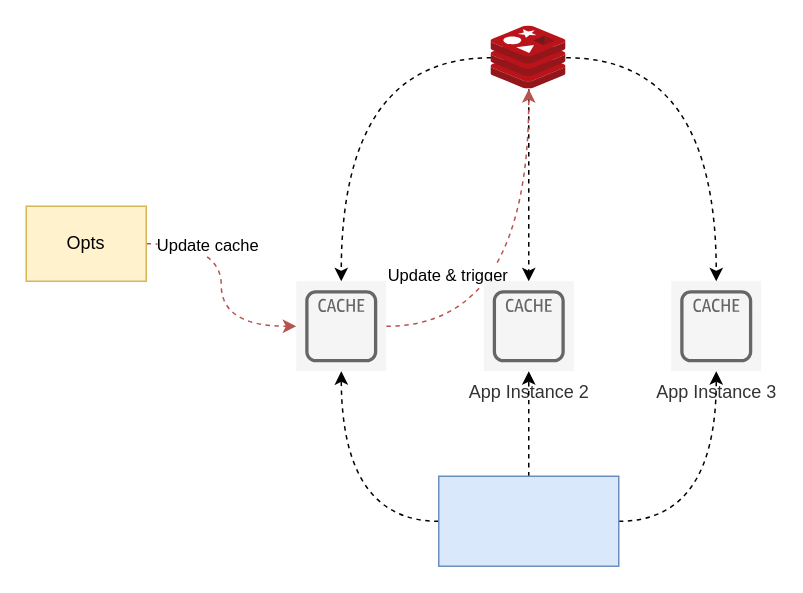
Image size: 803x593. Some labels were removed from this diagram. The box of each missing label's shape, as (x1, y1, x2, y2) in pixels:
App Instance 1: (295, 280, 386, 371)
Clients: (437, 475, 619, 566)
